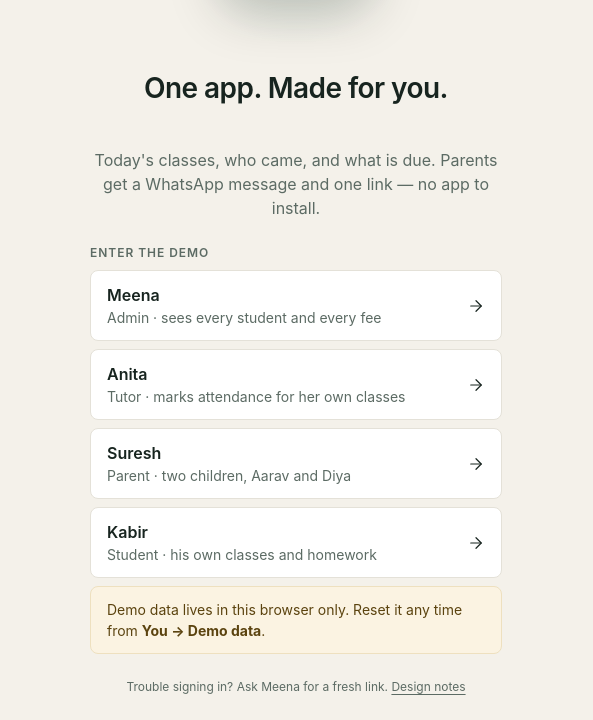
Scenario: signing in to the demo › takes a parent to their child, not to the staff screens
The image size is (593, 720).
(page scrolled)
Click the button "Suresh Parent · two children, Aarav and Diya".
click(134, 453)  # box [90,428,502,499]
(page scrolled)
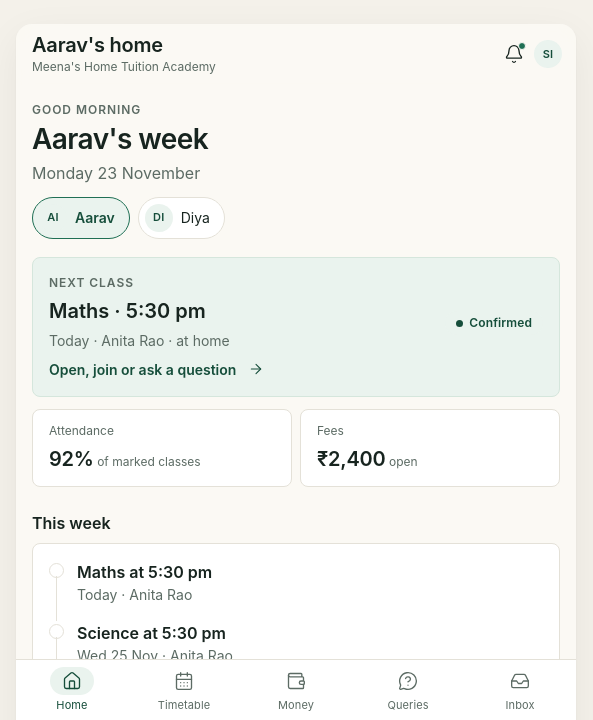
Check: the heading "Aarav's home" is shown, box [32,32,163,56]
